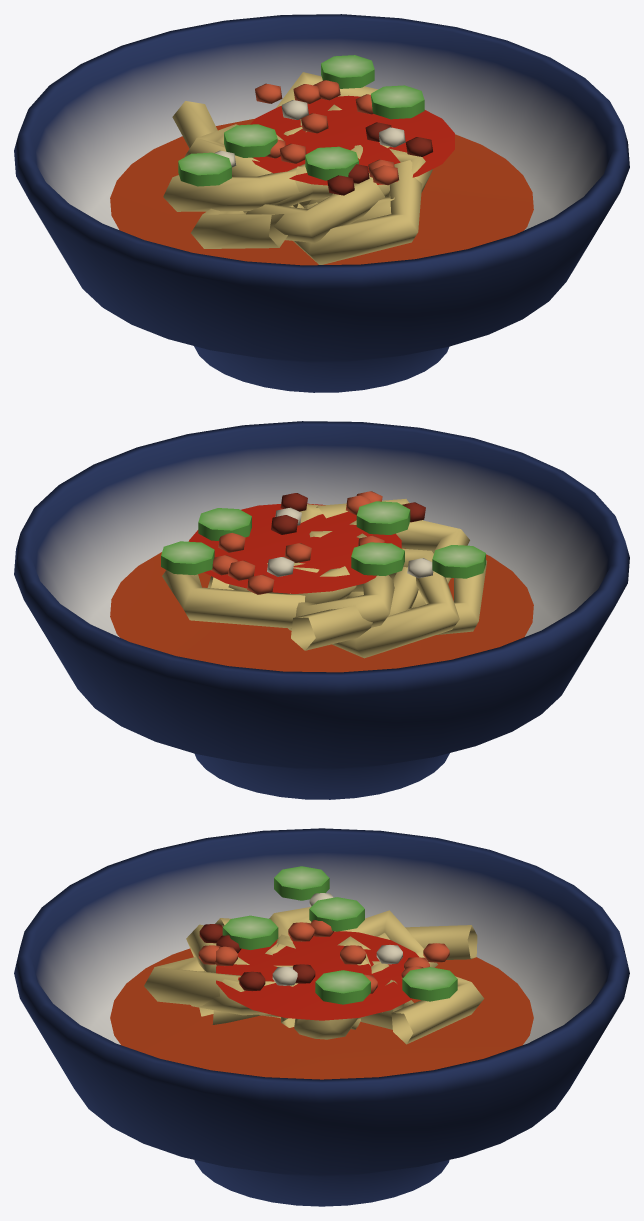
Rendered from item_dish_chili_crisp.glb.
3 views of the same model, one above another, from view 1: azimuth 30°, elevation 25°; view 2: azimuth 150°, elevation 25°; view 3: azimuth 270°, elevation 25° (orthographic).
Visible parts, largest first — view 1: item_dish_chili_crisp_main, item_dish_chili_crisp_gloss; view 2: item_dish_chili_crisp_main, item_dish_chili_crisp_gloss; view 3: item_dish_chili_crisp_main, item_dish_chili_crisp_gloss.
Boxes of the visible parts, left/top/right/bottom form: item_dish_chili_crisp_main: left=14, top=14, right=629, bottom=392; item_dish_chili_crisp_gloss: left=250, top=95, right=454, bottom=185; item_dish_chili_crisp_main: left=14, top=421, right=629, bottom=799; item_dish_chili_crisp_gloss: left=189, top=503, right=401, bottom=593; item_dish_chili_crisp_main: left=14, top=828, right=629, bottom=1206; item_dish_chili_crisp_gloss: left=216, top=931, right=418, bottom=1020.
Size of the model in its own units: 0.2 by 0.076 by 0.2.
